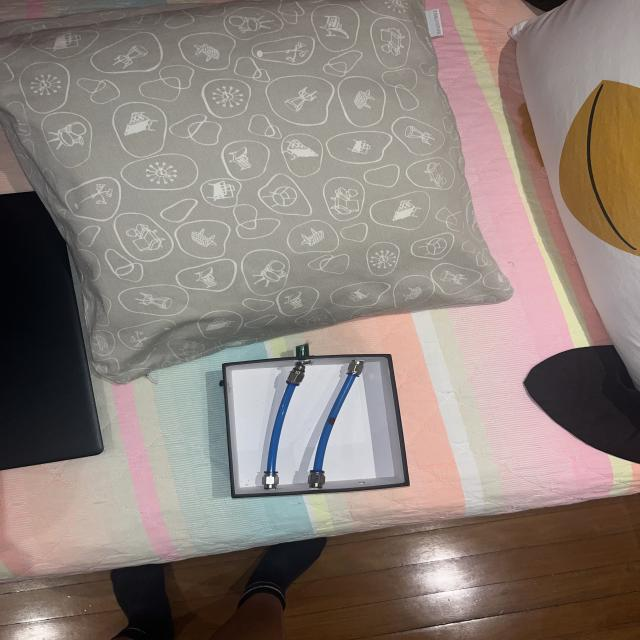hose_damage: (327, 417, 336, 426)
